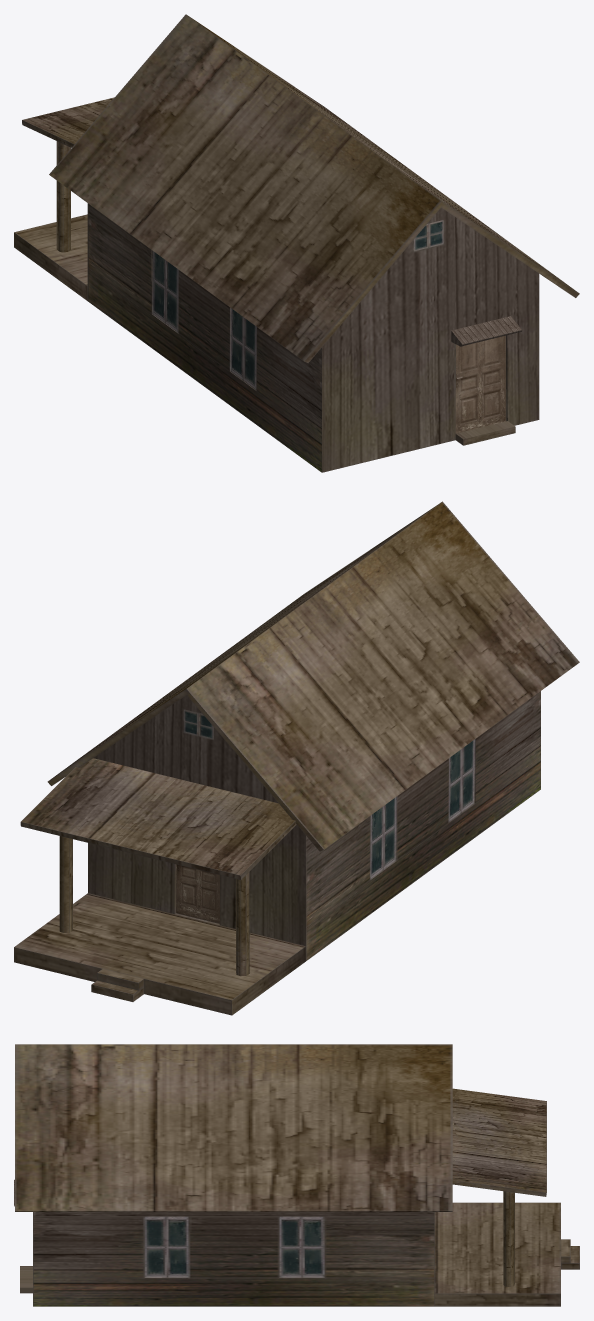
The model's file is farmhouse.obj.
3 renders of one model, top to bottom at view 1: azimuth 30°, elevation 25°; view 2: azimuth 150°, elevation 25°; view 3: azimuth 270°, elevation 25°, orthographic. The views are drawn at different scales.
Visible parts, largest first — view 1: polySurface73; view 2: polySurface73; view 3: polySurface73.
Part boxes in pixels (left/top/right/bottom): polySurface73: left=14, top=14, right=579, bottom=472; polySurface73: left=14, top=501, right=579, bottom=1015; polySurface73: left=14, top=1044, right=579, bottom=1306.
Size of the model in its own units: 24.28 by 21.28 by 50.36.
1 material, 1 textured.
